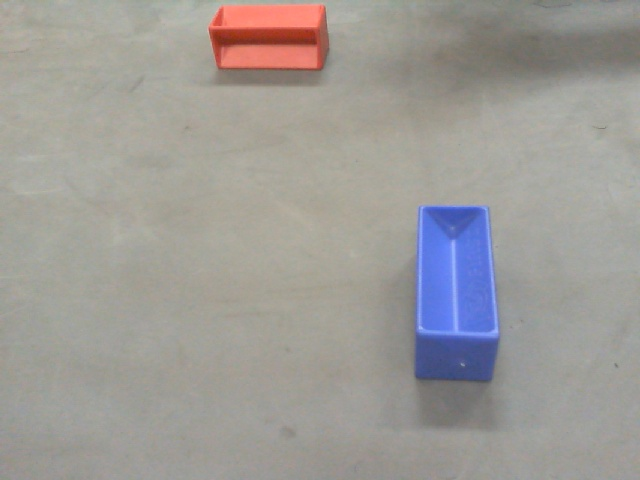BlueSample: (415, 203, 501, 387)
RedSample: (207, 2, 331, 73)
